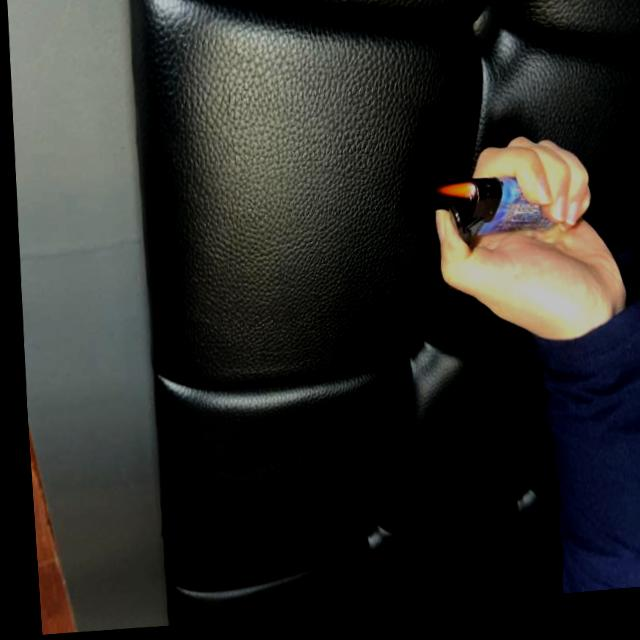Fire: (431, 187, 471, 210)
